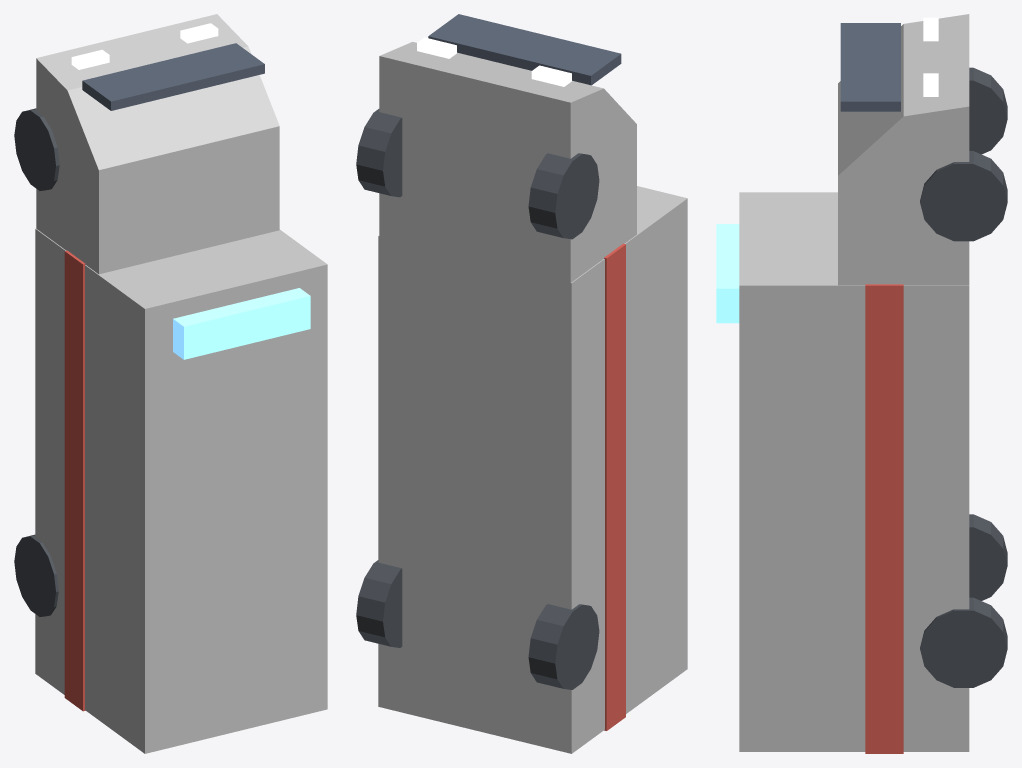
Rendered from ambulance.glb.
The picture shows the model from 3 angles, left to right: view 1: azimuth 30°, elevation 25°; view 2: azimuth 150°, elevation 25°; view 3: azimuth 270°, elevation 25°; orthographic projection. The views are drawn at different scales.
Visible parts, largest first — view 1: geometry_1, geometry_0, geometry_2, geometry_3, geometry_4, geometry_5, geometry_7, geometry_9, geometry_10; view 2: geometry_1, geometry_0, geometry_2, geometry_3, geometry_5, geometry_7, geometry_6, geometry_8, geometry_9, geometry_10; view 3: geometry_1, geometry_0, geometry_2, geometry_6, geometry_8, geometry_3, geometry_7, geometry_5, geometry_4.
Part boxes in pixels (bbox=[...]): geometry_1: bbox=[35, 228, 327, 753]; geometry_0: bbox=[36, 14, 279, 274]; geometry_2: bbox=[64, 250, 85, 711]; geometry_3: bbox=[82, 43, 264, 110]; geometry_4: bbox=[173, 288, 310, 359]; geometry_5: bbox=[14, 108, 59, 190]; geometry_7: bbox=[14, 534, 58, 616]; geometry_9: bbox=[71, 49, 109, 69]; geometry_10: bbox=[180, 23, 218, 43]; geometry_1: bbox=[378, 186, 687, 753]; geometry_0: bbox=[379, 42, 636, 287]; geometry_2: bbox=[604, 243, 625, 730]; geometry_3: bbox=[428, 14, 621, 85]; geometry_5: bbox=[528, 153, 599, 239]; geometry_7: bbox=[528, 604, 599, 689]; geometry_6: bbox=[356, 109, 402, 197]; geometry_8: bbox=[356, 560, 402, 647]; geometry_9: bbox=[531, 65, 571, 86]; geometry_10: bbox=[417, 37, 456, 58]; geometry_1: bbox=[739, 192, 969, 751]; geometry_0: bbox=[838, 14, 969, 285]; geometry_2: bbox=[865, 284, 903, 753]; geometry_6: bbox=[920, 151, 1007, 241]; geometry_8: bbox=[920, 597, 1007, 687]; geometry_3: bbox=[840, 23, 900, 111]; geometry_7: bbox=[969, 514, 1007, 600]; geometry_5: bbox=[969, 67, 1007, 154]; geometry_4: bbox=[716, 224, 739, 323].
Bounding box in the file's own units: 2.08 × 6.58 × 2.66.
